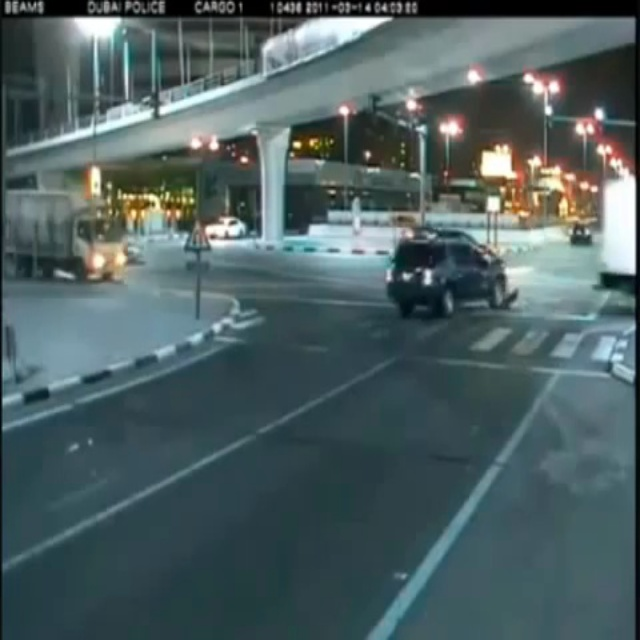acc: (364, 231, 624, 319)
